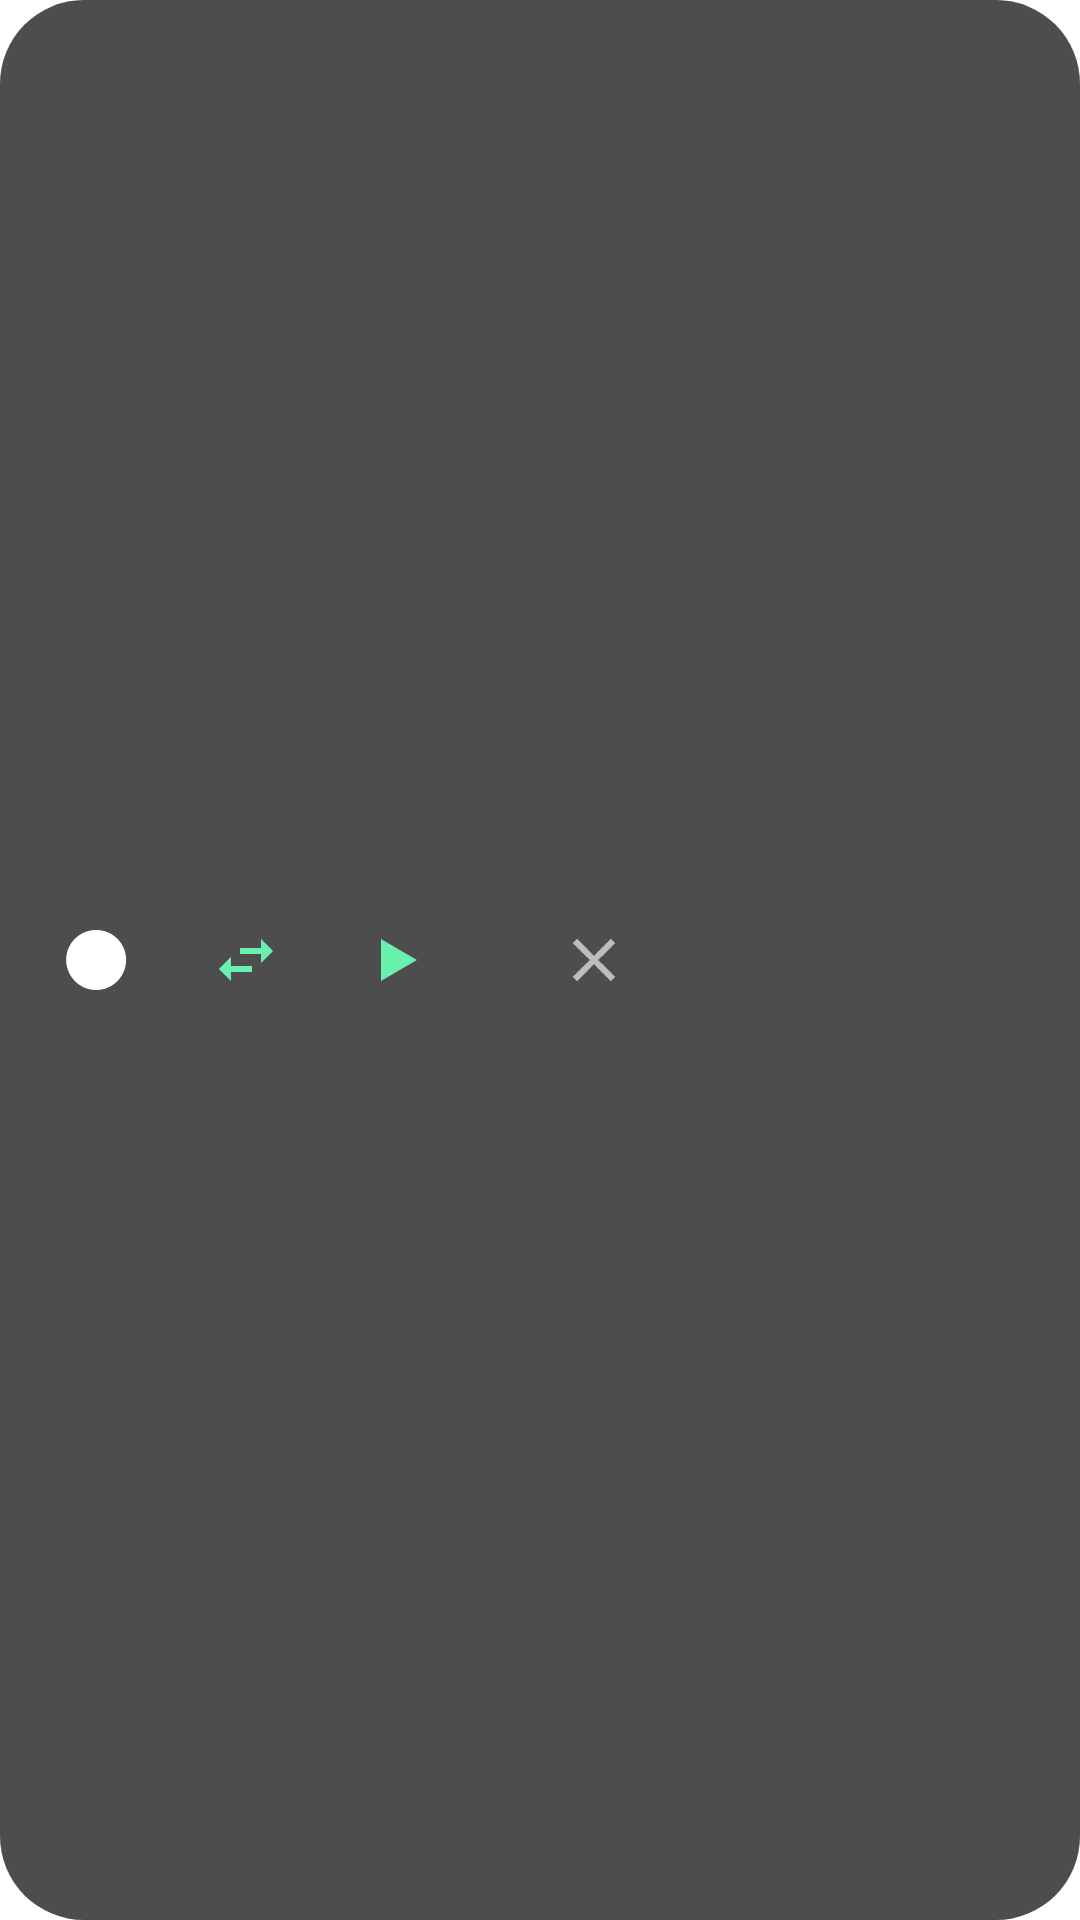

Named icons in this screenshot (1080*1920) and their centers, [x,y]:
close: [594,960]
play: [399,960]
record: [96,960]
